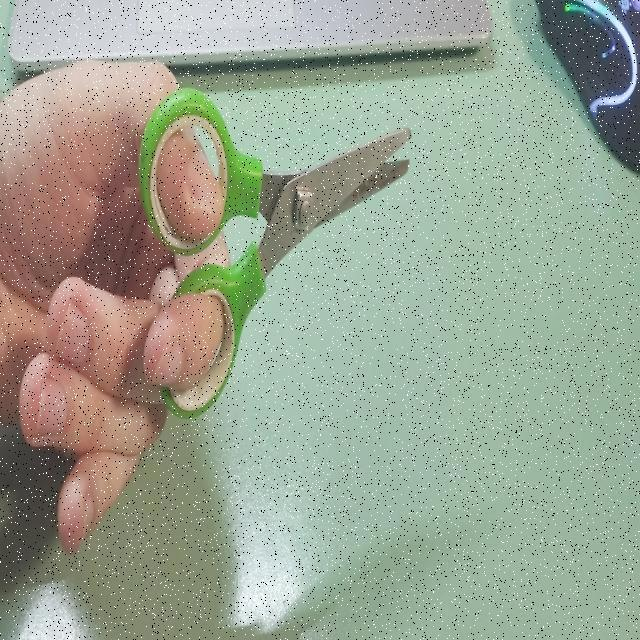scissors: (136, 82, 415, 430)
